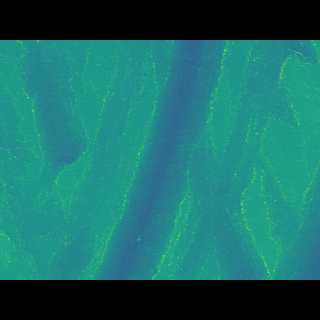Loch: (88, 70, 237, 250), (169, 166, 319, 249), (0, 69, 94, 169)
